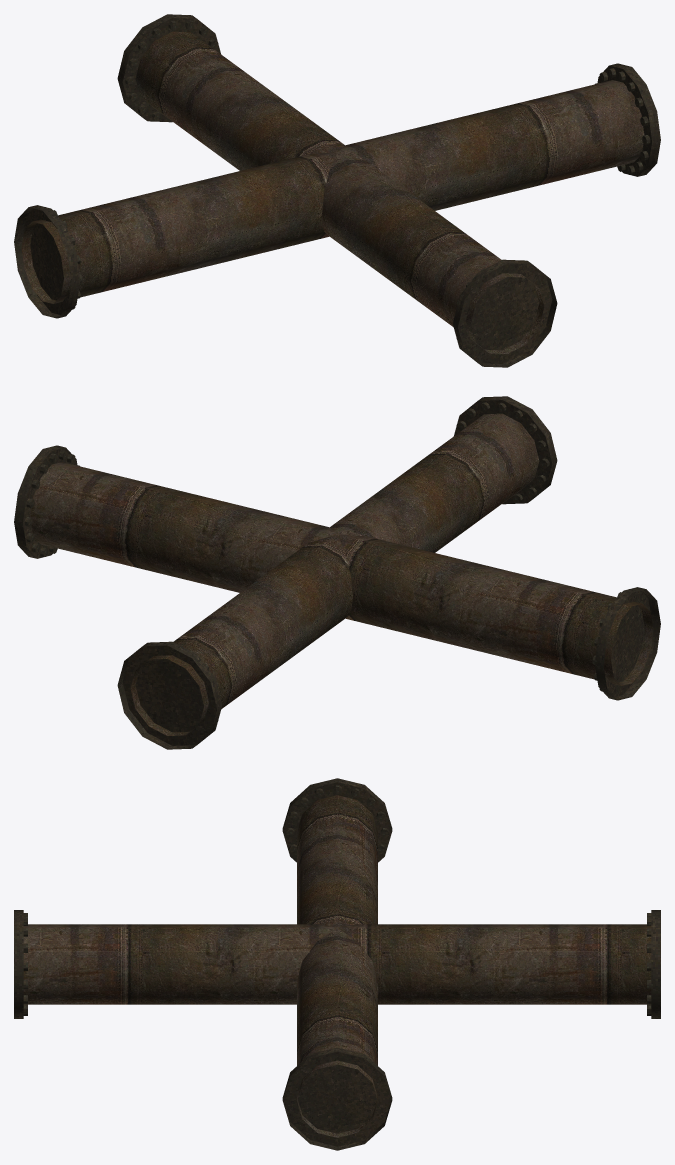
File: pipe_bx_2.glb
3 renders of one model, top to bottom at view 1: azimuth 30°, elevation 25°; view 2: azimuth 150°, elevation 25°; view 3: azimuth 270°, elevation 25°, orthographic. The views are drawn at different scales.
Visible parts, largest first — view 1: pipe_bx_2; view 2: pipe_bx_2; view 3: pipe_bx_2.
Part boxes in pixels (x1=…): pipe_bx_2: x1=14, y1=14, x2=660, y2=367; pipe_bx_2: x1=14, y1=396, x2=660, y2=749; pipe_bx_2: x1=14, y1=778, x2=660, y2=1150.
Size of the model in its own units: 4 by 0.676 by 4.
Materials: 2 (2 with a texture image).
